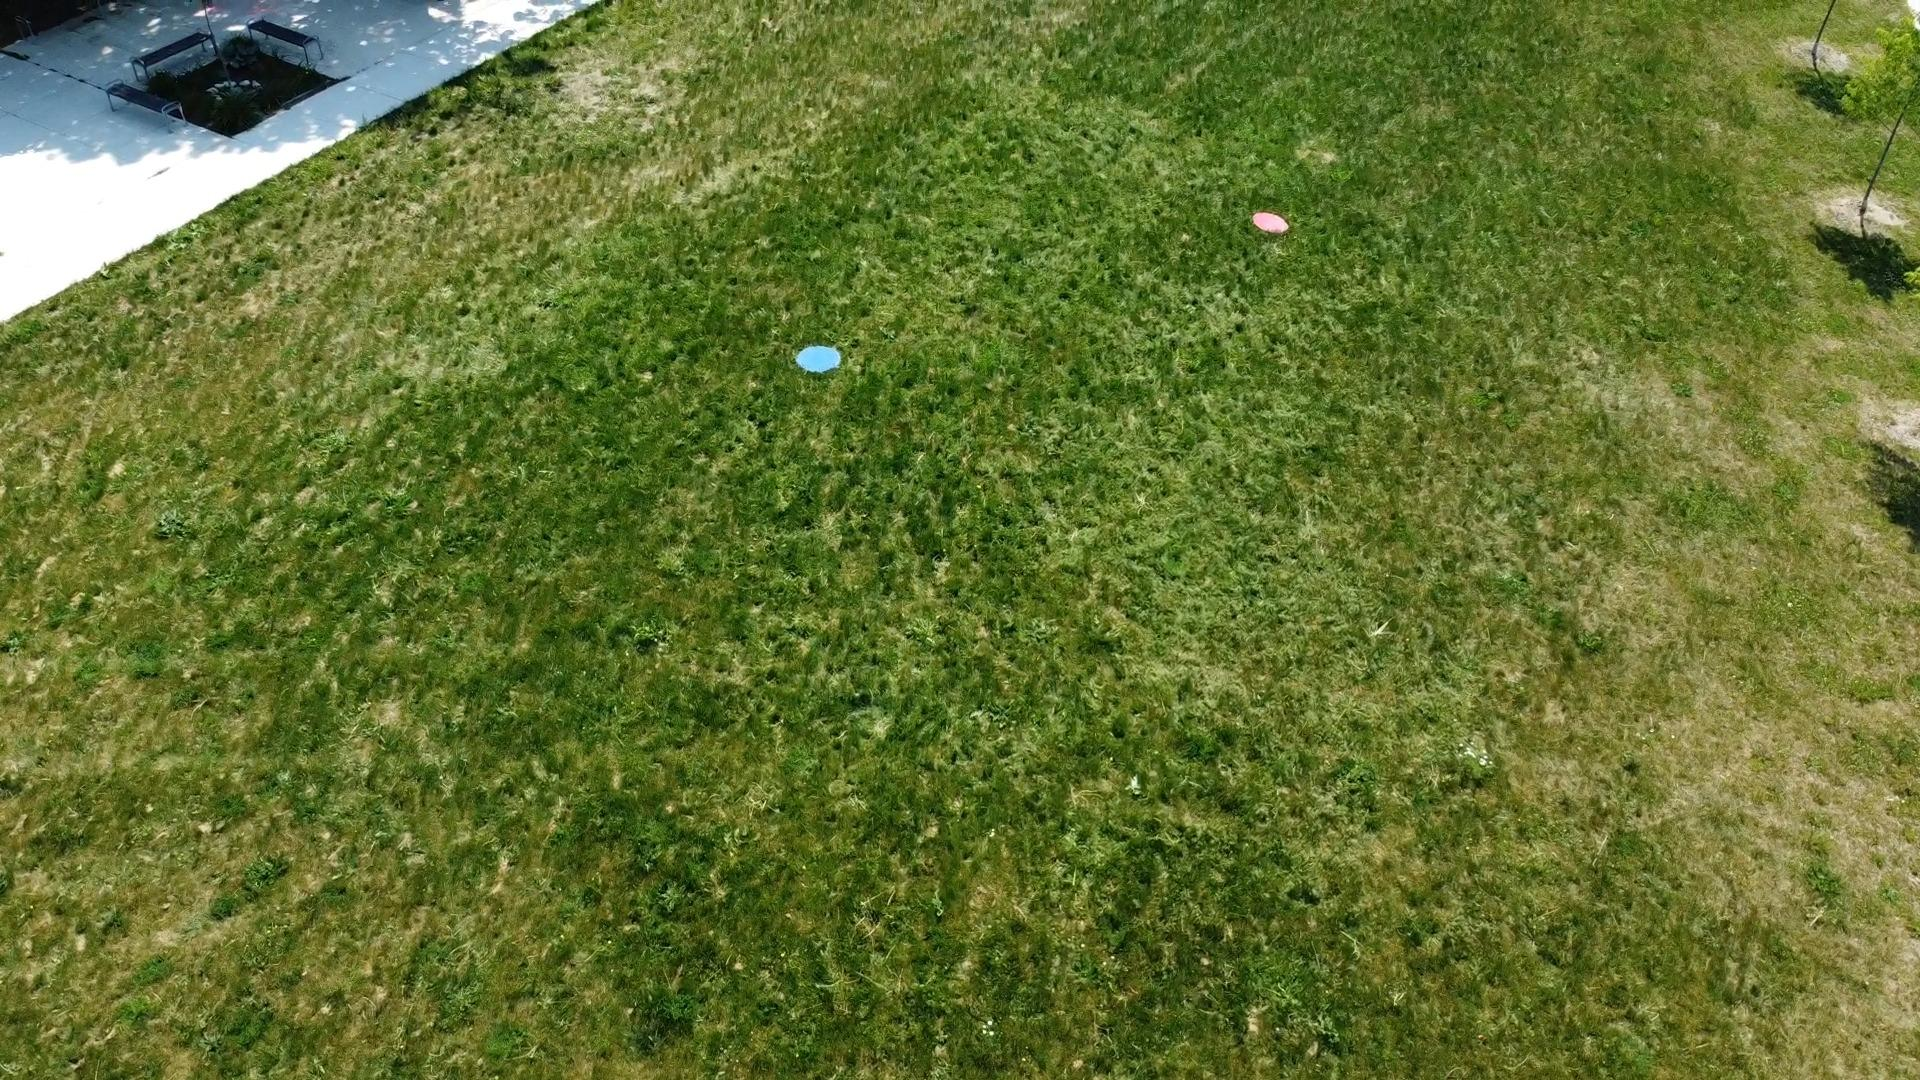Blue: (794, 344, 843, 375)
Red: (1249, 210, 1291, 235)
